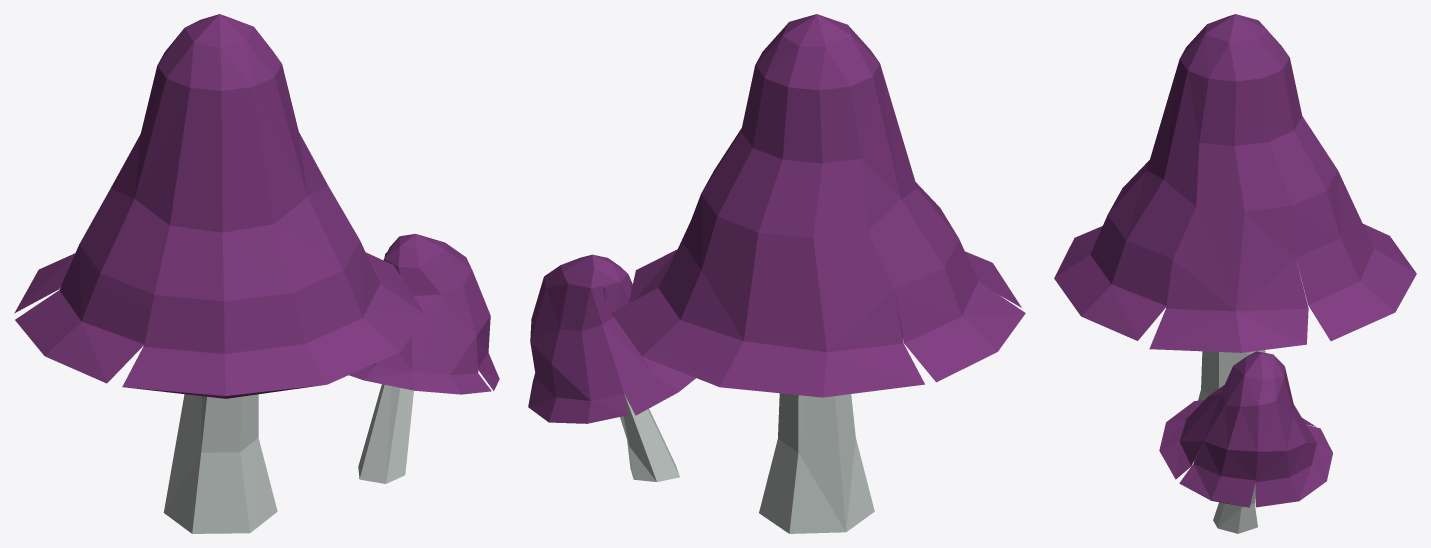
Rendered from mushroom3.fbx.
The picture shows the model from 3 angles, left to right: view 1: azimuth 30°, elevation 25°; view 2: azimuth 150°, elevation 25°; view 3: azimuth 270°, elevation 25°; orthographic projection. The views are drawn at different scales.
Parts seen in each view (by area): view 1: Mushroom_02; view 2: Mushroom_02; view 3: Mushroom_02.
Part boxes in pixels (x1=…): Mushroom_02: x1=14, y1=14, x2=499, y2=533; Mushroom_02: x1=528, y1=14, x2=1025, y2=533; Mushroom_02: x1=1054, y1=14, x2=1416, y2=533.
Size of the model in its own units: 195 by 205 by 153.
